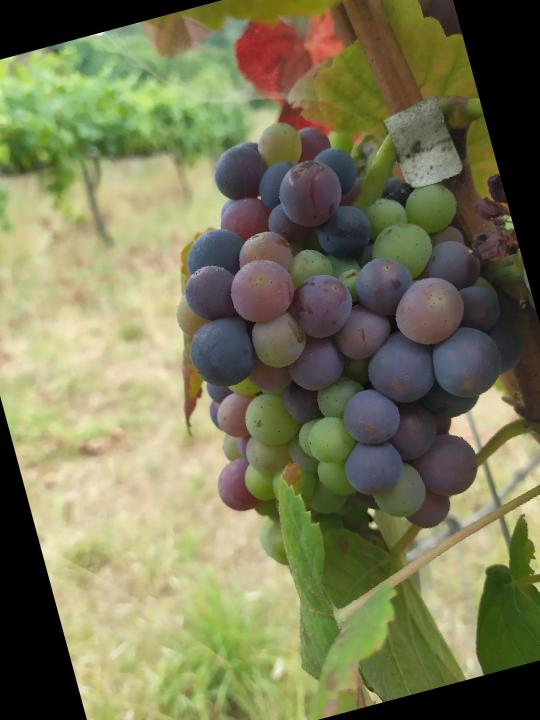grape: (125, 75, 540, 584)
